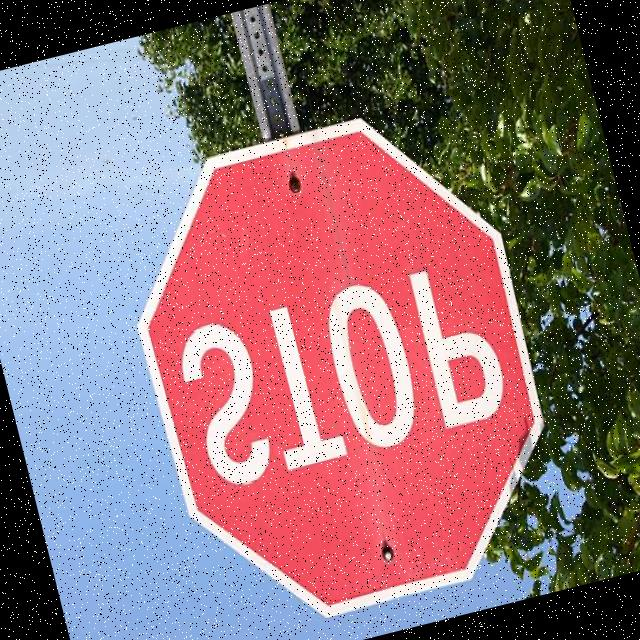stop: (98, 83, 587, 640)
